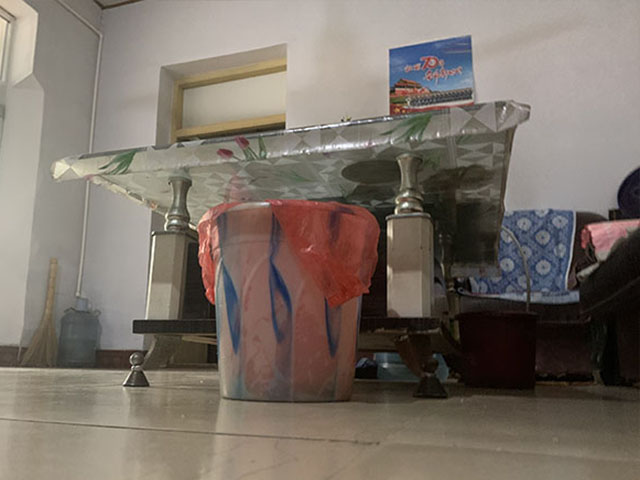table: (47, 98, 533, 399)
trashcan: (200, 196, 382, 402), (453, 309, 539, 389)
